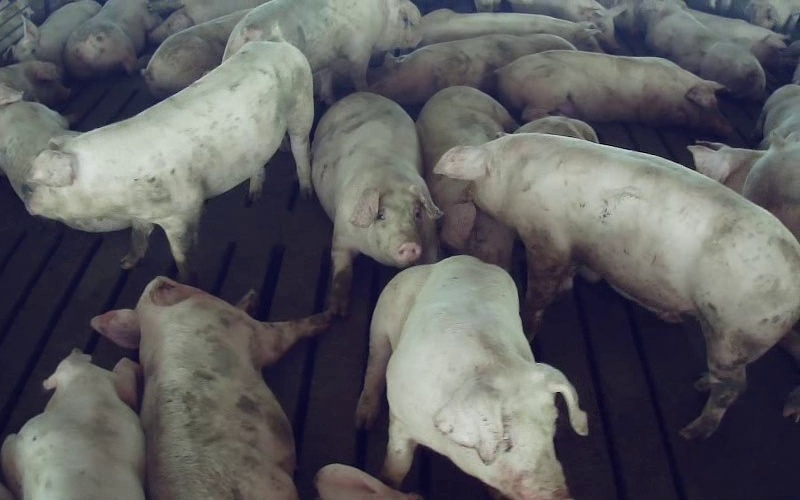pig: (436, 134, 799, 438), (28, 42, 313, 278), (357, 256, 586, 499), (92, 276, 328, 499), (312, 92, 439, 314), (2, 349, 144, 499), (496, 50, 732, 136), (223, 0, 420, 103), (416, 86, 515, 269), (369, 34, 575, 105), (639, 0, 765, 100), (418, 9, 601, 51), (12, 0, 100, 70)
